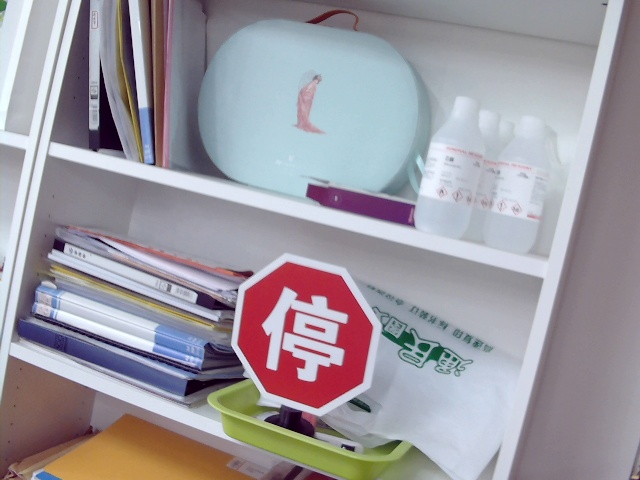stop: (264, 280, 349, 381)
